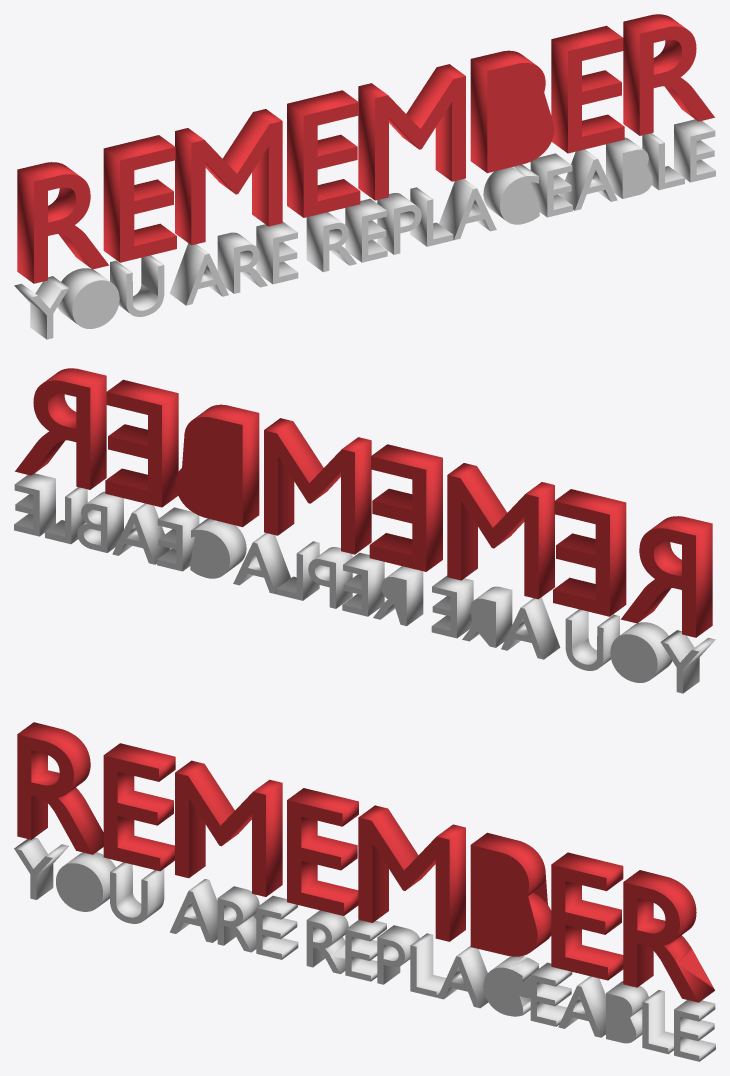
The model's file is RememberYouAreReplaceable.fbx.
3 views of the same model, one above another, from view 1: azimuth 30°, elevation 25°; view 2: azimuth 150°, elevation 25°; view 3: azimuth 330°, elevation 25° (orthographic).
Visible parts, largest first — view 1: Remember, YouAreReplacable; view 2: Remember, YouAreReplacable; view 3: Remember, YouAreReplacable.
Boxes of the visible parts, x1,y1,x2,y2 form: Remember: (17, 14, 714, 283); YouAreReplacable: (14, 119, 715, 339); Remember: (15, 368, 712, 637); YouAreReplacable: (14, 473, 715, 693); Remember: (17, 722, 714, 1002); YouAreReplacable: (14, 837, 715, 1061).
Bounding box in the file's own units: 478 × 108 × 20.
